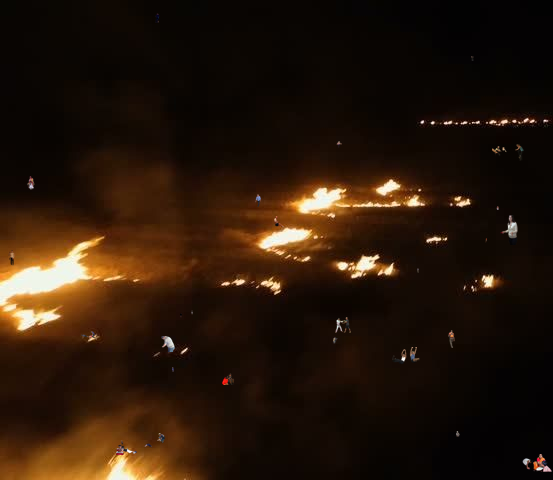Human: (492, 144, 524, 161), (522, 454, 552, 472), (500, 215, 518, 245), (116, 440, 152, 455), (392, 347, 423, 364), (335, 317, 351, 333), (161, 336, 175, 352), (222, 373, 235, 385), (81, 331, 97, 340), (274, 216, 285, 228), (448, 330, 455, 348), (26, 176, 35, 190), (8, 250, 15, 266), (255, 193, 261, 207), (157, 433, 165, 443), (155, 13, 160, 23), (336, 141, 342, 148), (333, 337, 338, 345), (456, 431, 460, 437), (471, 56, 474, 61), (496, 206, 499, 210), (180, 313, 182, 318), (417, 268, 419, 273), (485, 238, 487, 243), (172, 367, 174, 372), (191, 310, 193, 315)
